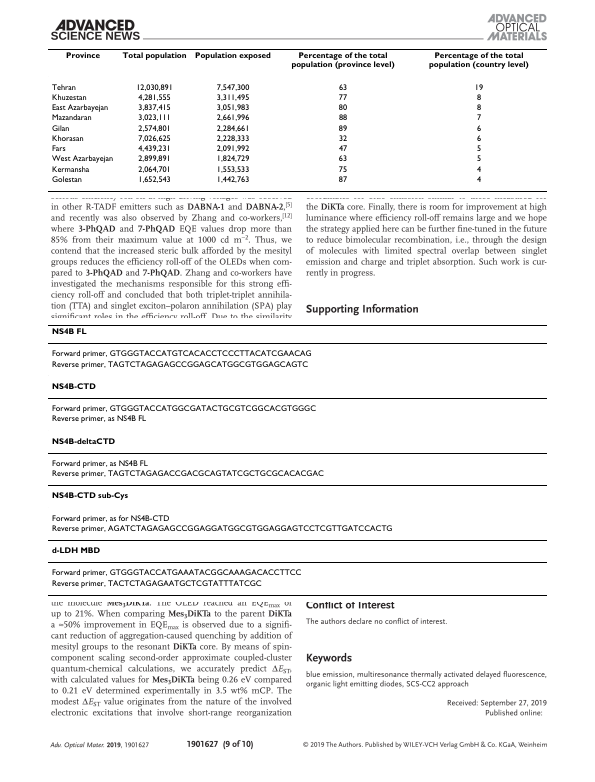borderless: (47, 323, 547, 595), (47, 47, 547, 191)
cell: (50, 524, 393, 534), (50, 469, 324, 479), (50, 404, 317, 414), (50, 360, 309, 370), (50, 350, 312, 359), (50, 569, 302, 578), (50, 579, 262, 589), (290, 52, 395, 70), (428, 52, 529, 70), (50, 514, 170, 524), (50, 459, 148, 469), (50, 415, 147, 424), (50, 492, 129, 501), (194, 52, 271, 61), (50, 437, 116, 447), (121, 52, 187, 61), (50, 155, 114, 164), (50, 104, 109, 113), (50, 382, 96, 392), (50, 547, 100, 556), (50, 165, 90, 175), (135, 83, 173, 93), (50, 114, 92, 123), (50, 93, 87, 103), (215, 83, 250, 93), (215, 93, 250, 103), (215, 124, 250, 134), (215, 134, 250, 144), (215, 165, 250, 175), (215, 175, 250, 185), (137, 93, 171, 103), (137, 124, 171, 134), (50, 134, 84, 144), (137, 134, 171, 144), (137, 165, 171, 175), (137, 175, 171, 185), (50, 328, 87, 337), (50, 175, 82, 185), (65, 52, 100, 61), (215, 104, 250, 113), (215, 114, 250, 123), (215, 145, 250, 154), (215, 155, 250, 164), (137, 104, 171, 113), (137, 114, 171, 123), (137, 145, 171, 154), (137, 155, 171, 164), (50, 83, 76, 93), (50, 124, 70, 134), (50, 145, 66, 154), (337, 83, 348, 93), (473, 83, 484, 93), (337, 93, 348, 103), (337, 124, 348, 134), (337, 134, 348, 144), (337, 165, 348, 175), (337, 175, 348, 185), (337, 104, 348, 113), (337, 114, 348, 123), (337, 145, 348, 154), (337, 155, 348, 164), (475, 134, 482, 144), (475, 175, 482, 185), (475, 104, 482, 113), (475, 114, 482, 123), (475, 145, 482, 154), (475, 155, 482, 164), (475, 93, 481, 103), (475, 124, 481, 134), (475, 165, 481, 175)
